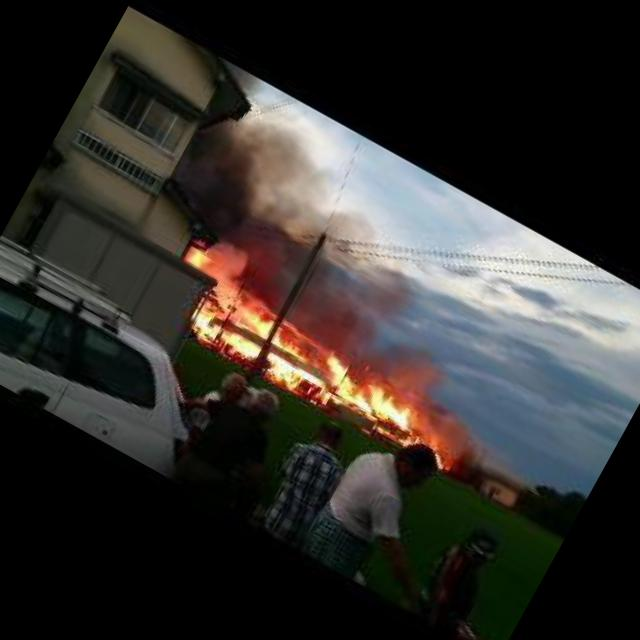fire: (188, 287, 434, 453), (423, 436, 460, 470), (186, 244, 212, 272)
smoke: (197, 145, 514, 412)
